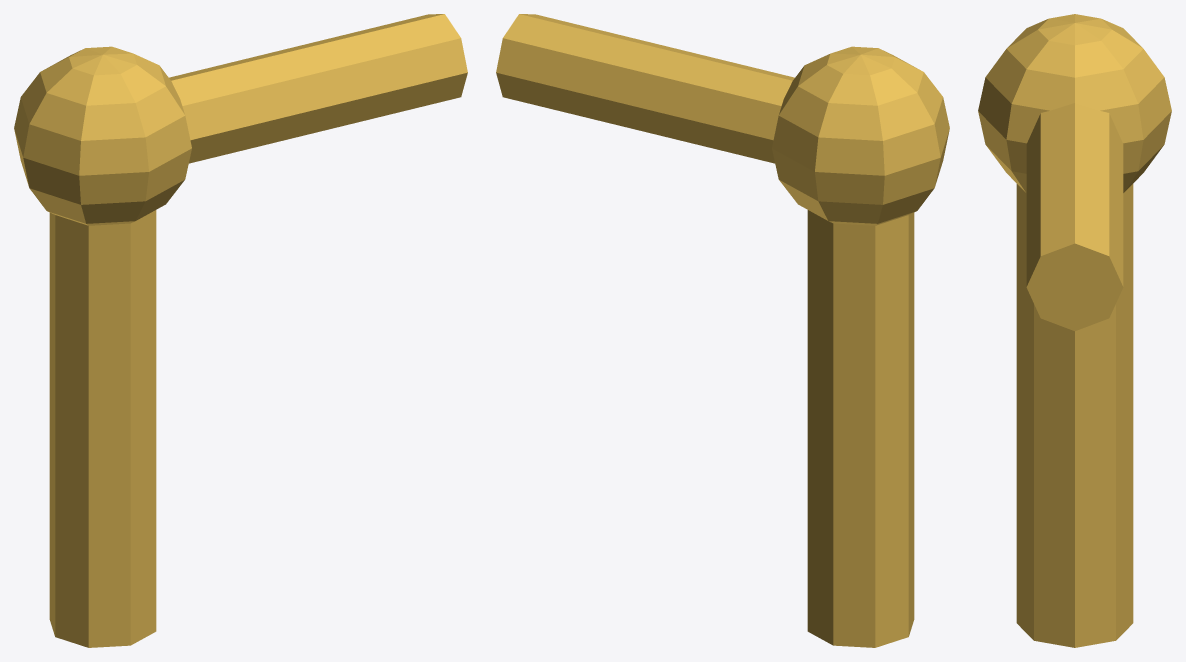
File: paloInterno.dae
3 views of the same model, side by side, from view 1: azimuth 30°, elevation 25°; view 2: azimuth 150°, elevation 25°; view 3: azimuth 270°, elevation 25° (orthographic). The views are drawn at different scales.
Parts seen in each view (by area): view 1: PoleInterno; view 2: PoleInterno; view 3: PoleInterno.
Boxes of the visible parts, x1,y1,x2,y2 form: PoleInterno: (14,14,467,647); PoleInterno: (496,14,949,647); PoleInterno: (978,14,1171,647).
Size of the model in its own units: 5.28 by 2 by 6.83.
